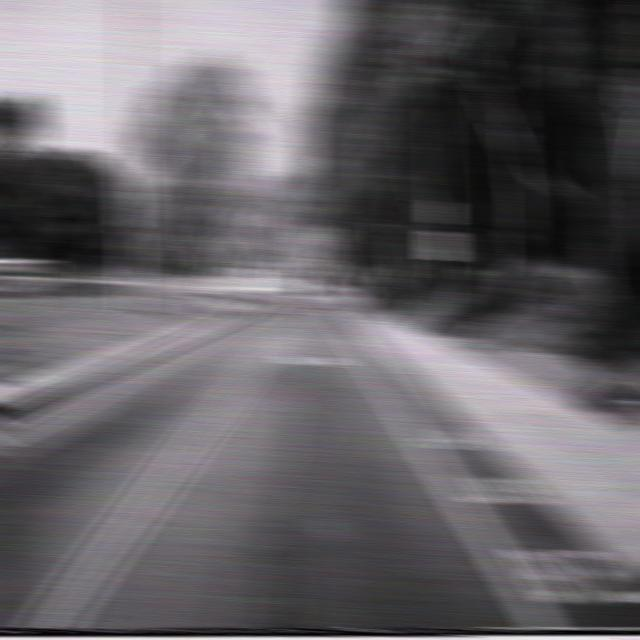speedLimit15: (426, 229, 456, 261)
